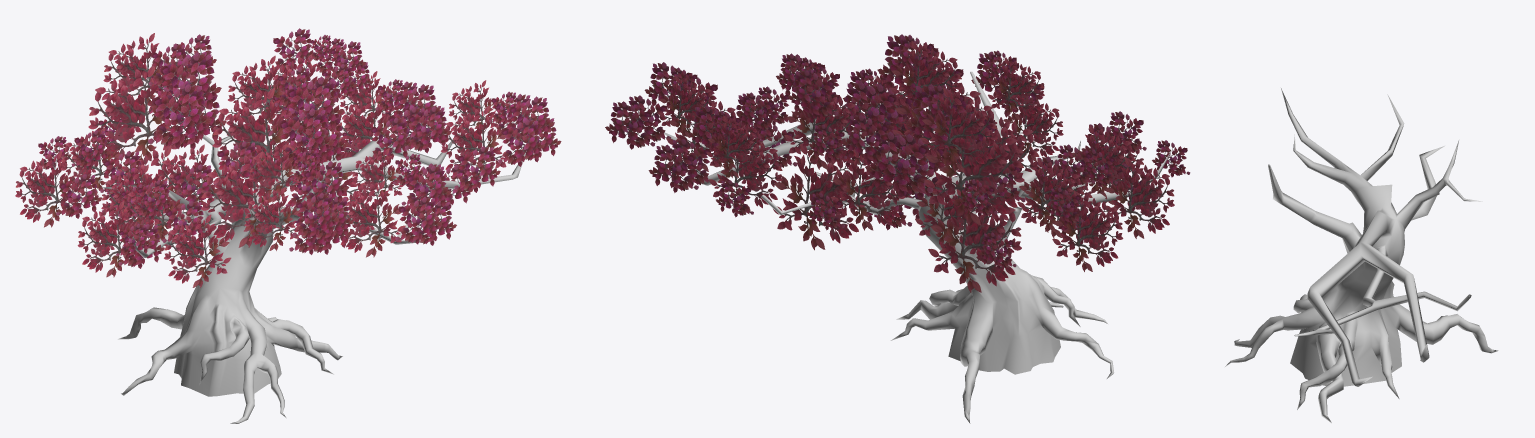
The model's file is sj_xsc_shu03_mesh.fbx.
The picture shows the model from 3 angles, left to right: view 1: azimuth 30°, elevation 25°; view 2: azimuth 150°, elevation 25°; view 3: azimuth 270°, elevation 25°; orthographic projection. The views are drawn at different scales.
Parts seen in each view (by area): view 1: sj_xsc_shugan01_mesh, polySurface619, polySurface639, polySurface590, polySurface624, polySurface584, polySurface618, polySurface630, polySurface622, polySurface596, polySurface617, polySurface613 (+53 smaller); view 2: sj_xsc_shugan01_mesh, polySurface619, polySurface649, polySurface648, polySurface617, polySurface622, polySurface630, polySurface646, polySurface621, polySurface607, polySurface588, polySurface602 (+42 smaller); view 3: sj_xsc_shugan01_mesh.
Boxes of the visible parts, x1,y1,x2,y2 form: sj_xsc_shugan01_mesh: (100, 124, 526, 423); polySurface619: (88, 66, 177, 168); polySurface639: (201, 151, 288, 247); polySurface590: (212, 87, 298, 184); polySurface624: (164, 214, 231, 287); polySurface584: (336, 180, 405, 257); polySurface618: (148, 84, 212, 148); polySurface630: (15, 150, 81, 227); polySurface622: (77, 201, 143, 277); polySurface596: (441, 105, 506, 178); polySurface617: (103, 33, 171, 109); polySurface613: (244, 187, 300, 250); sj_xsc_shugan01_mesh: (664, 71, 1171, 423); polySurface619: (924, 119, 1024, 225); polySurface649: (928, 186, 1021, 292); polySurface648: (773, 142, 864, 250); polySurface617: (920, 87, 997, 172); polySurface622: (1106, 157, 1174, 238); polySurface630: (1052, 190, 1123, 271); polySurface646: (831, 149, 905, 230); polySurface621: (865, 131, 933, 197); polySurface607: (784, 86, 860, 169); polySurface588: (890, 41, 962, 113); polySurface602: (708, 132, 782, 212); sj_xsc_shugan01_mesh: (1225, 88, 1498, 422).
Size of the model in its own units: 1593 by 898 by 740.
